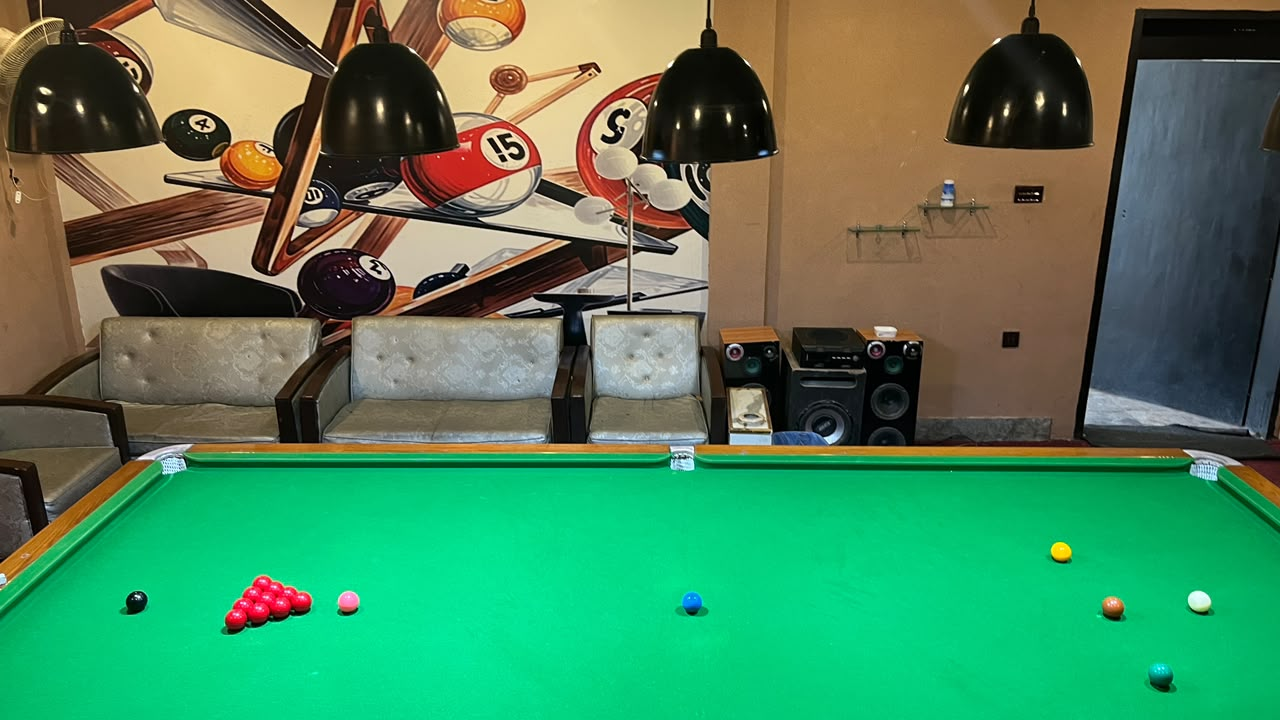Snooker: (222, 574, 316, 639)
